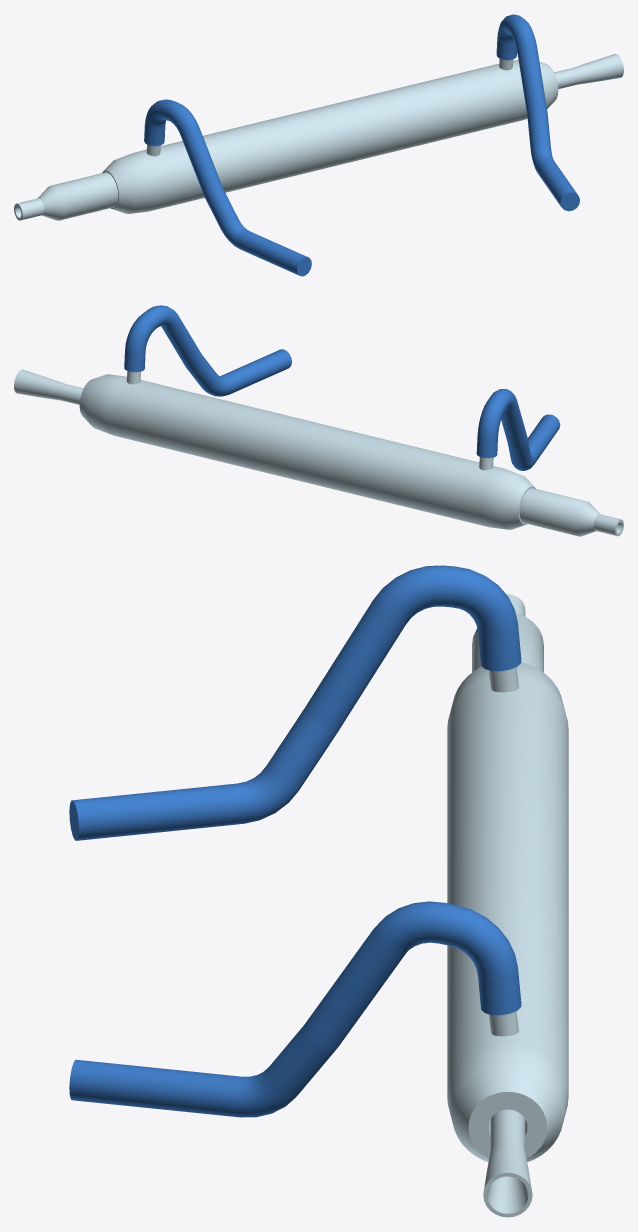
The model's file is liebig-condenser.glb.
The picture shows the model from 3 angles, top to bottom: view 1: azimuth 30°, elevation 25°; view 2: azimuth 150°, elevation 25°; view 3: azimuth 270°, elevation 25°; orthographic projection. The views are drawn at different scales.
Parts seen in each view (by area): view 1: Liebig_Condenser; view 2: Liebig_Condenser; view 3: Liebig_Condenser.
Part boxes in pixels (x1,y1,x2,y2): Liebig_Condenser: (14, 14, 623, 276); Liebig_Condenser: (14, 305, 623, 536); Liebig_Condenser: (69, 565, 568, 1217).
Bounding box in the file's own units: 0.415 × 0.0771 × 0.1497.
